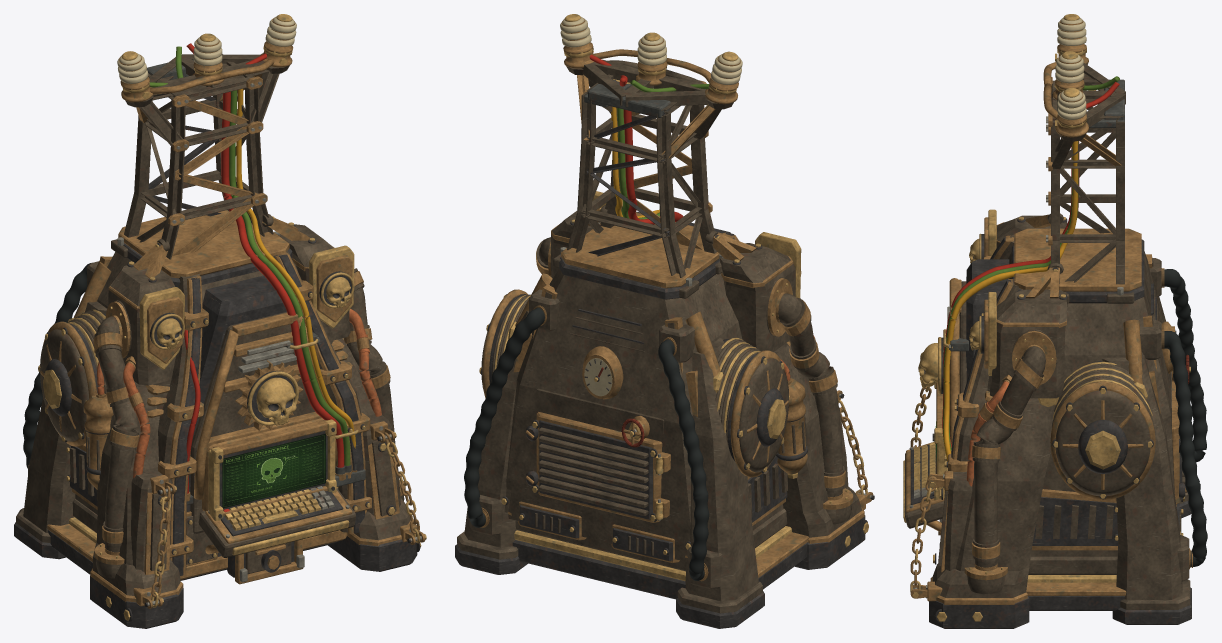
The model's file is senior.glb.
The picture shows the model from 3 angles, left to right: view 1: azimuth 30°, elevation 25°; view 2: azimuth 150°, elevation 25°; view 3: azimuth 270°, elevation 25°; orthographic projection. The views are drawn at different scales.
Parts seen in each view (by area): view 1: senior | tapered engine casting, senior | split foundation shoes, senior | service door and buttresses, senior | studs and instrumentation, LH | shoulder supply casting, senior | finned reduction housings, senior · command monitor · bowed phosphor glass, senior · console mounting apron, field trunk | red, field trunk | green, RH | shoulder supply casting, field trunk | amber (+37 smaller); view 2: senior | tapered engine casting, senior | finned reduction housings, senior | split foundation shoes, senior | studs and instrumentation, LH | shoulder supply casting, senior | service door and buttresses, LH | rear exchanger return, RH | rear exchanger return, mast | terminal rail, tower | main rolled upright.004, tower | main rolled upright.010, tower | main rolled upright.001 (+11 smaller); view 3: senior | tapered engine casting, senior | split foundation shoes, senior | finned reduction housings, RH | shoulder supply casting, senior | studs and instrumentation, RH | rear exchanger return, LH | rear exchanger return, senior | service door and buttresses, field trunk | amber, RH | instrument hardline, senior · cast arch moulding.001, field trunk | green (+16 smaller).
Part boxes in pixels (x1,y1,x2,y2): senior | tapered engine casting: (23, 210, 404, 579); senior | split foundation shoes: (14, 498, 417, 628); senior | service door and buttresses: (99, 252, 371, 575); senior | studs and instrumentation: (38, 214, 421, 622); LH | shoulder supply casting: (93, 301, 139, 564); senior | finned reduction housings: (40, 309, 107, 446); senior · command monitor · bowed phosphor glass: (222, 433, 325, 508); senior · console mounting apron: (190, 312, 314, 533); field trunk | red: (221, 91, 344, 467); field trunk | green: (229, 90, 350, 465); RH | shoulder supply casting: (343, 268, 405, 495); field trunk | amber: (236, 88, 355, 448); senior | tapered engine casting: (464, 211, 851, 601); senior | finned reduction housings: (481, 289, 788, 522); senior | split foundation shoes: (455, 486, 865, 628); senior | studs and instrumentation: (479, 205, 868, 555); LH | shoulder supply casting: (767, 278, 853, 509); senior | service door and buttresses: (504, 211, 790, 562); LH | rear exchanger return: (658, 337, 709, 581); RH | rear exchanger return: (464, 305, 546, 527); mast | terminal rail: (588, 84, 670, 117); tower | main rolled upright.004: (657, 157, 675, 235); tower | main rolled upright.010: (577, 140, 595, 215); tower | main rolled upright.001: (691, 136, 708, 211); senior | tapered engine casting: (944, 215, 1189, 599); senior | split foundation shoes: (929, 492, 1191, 628); senior | finned reduction housings: (1050, 361, 1187, 504); RH | shoulder supply casting: (964, 330, 1056, 580); senior | studs and instrumentation: (933, 213, 1190, 623); RH | rear exchanger return: (1161, 329, 1207, 569); LH | rear exchanger return: (1161, 268, 1207, 462); senior | service door and buttresses: (948, 235, 1181, 531); field trunk | amber: (943, 141, 1077, 461); RH | instrument hardline: (966, 374, 1012, 486); senior · cast arch moulding.001: (949, 312, 959, 444); field trunk | green: (943, 141, 1078, 450).
Size of the model in its own units: 2.16 by 3.45 by 1.88.
Materials: 14 (14 with a texture image).
